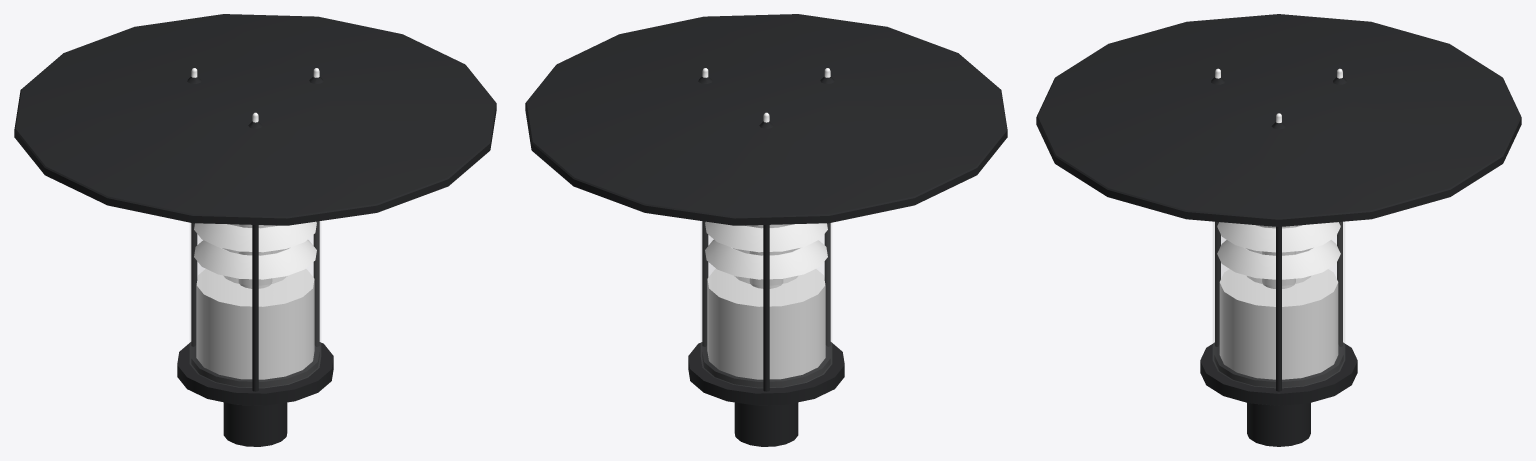
File: Richard_VIII.glb
The picture shows the model from 3 angles, left to right: view 1: azimuth 30°, elevation 25°; view 2: azimuth 150°, elevation 25°; view 3: azimuth 270°, elevation 25°; orthographic projection.
Visible parts, largest first — view 1: BezierCurve.001, Glas, BezierCurve.003; view 2: BezierCurve.001, Glas, BezierCurve.003; view 3: BezierCurve.001, Glas, BezierCurve.003.
Boxes of the visible parts, x1,y1,x2,y2 form: BezierCurve.001: (14,14,496,446); Glas: (190,221,320,387); BezierCurve.003: (187,68,323,391); BezierCurve.001: (525,14,1007,446); Glas: (701,221,831,387); BezierCurve.003: (698,68,834,391); BezierCurve.001: (1036,14,1521,446); Glas: (1213,222,1344,387); BezierCurve.003: (1211,68,1346,391).
Bounding box in the file's own units: 0.7518 × 0.5975 × 0.7518.
6 materials, 4 textured.
